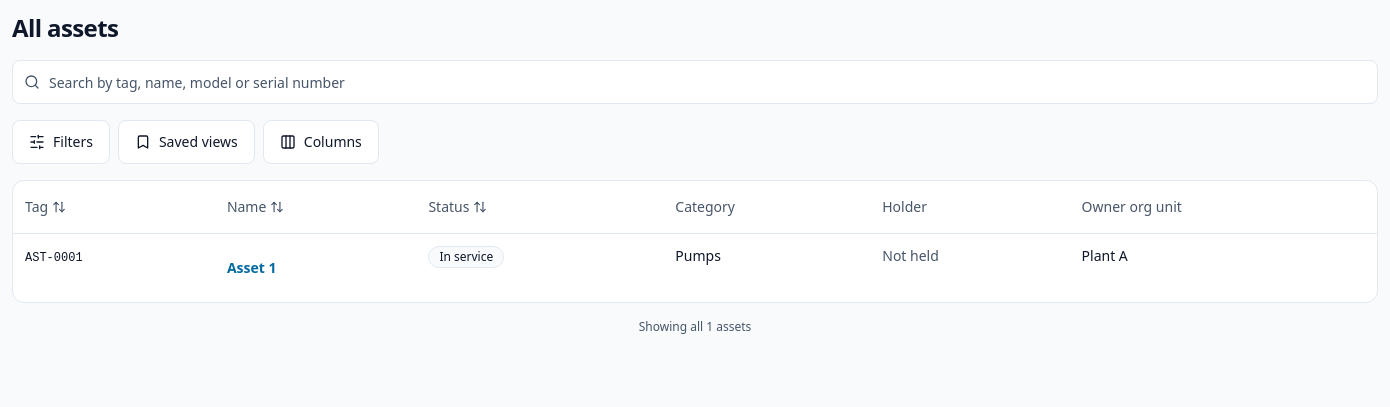
AssetsPage search, filters and URL › writes the debounced search text to the URL and requests it
Expected: the link "Asset 1" is shown, [227,258,276,277]
Type "pump" into the search field named "Search assets" at [695, 82], box [12,60,1378,104]
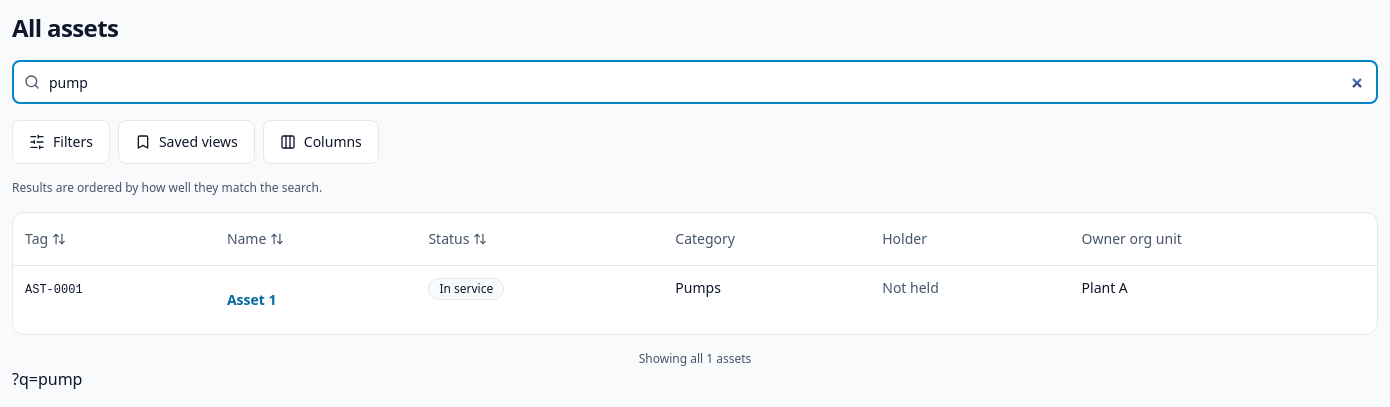
Result: the text with test id "url" reads "?q=pump" at [12,368,82,390]
